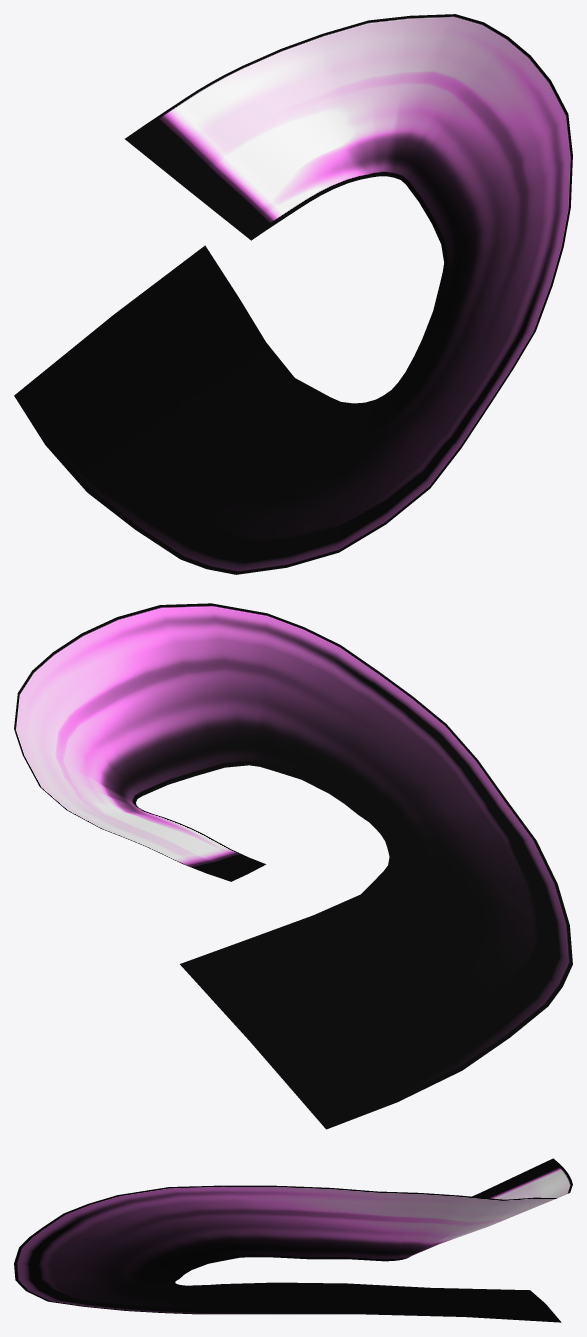
File: Mesh_Snowwhite_002_jlz.FBX
The picture shows the model from 3 angles, top to bottom: view 1: azimuth 30°, elevation 25°; view 2: azimuth 150°, elevation 25°; view 3: azimuth 270°, elevation 25°; orthographic projection. The views are drawn at different scales.
Visible parts, largest first — view 1: Plane002; view 2: Plane002; view 3: Plane002.
Part boxes in pixels (<box>): Plane002: <box>14,14,572,574</box>; Plane002: <box>14,603,572,1129</box>; Plane002: <box>14,1158,572,1322</box>.
Size of the model in its own units: 215 by 167 by 270.
Materials: 1 (1 with a texture image).
